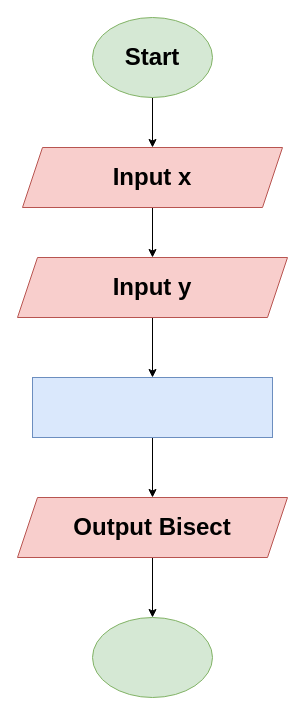
The diagram is 305 pixels wide and 715 high, and some of its shapes have lost their labels. The box of each missing label's shape, as (x1, y1, x2, y2) in pixels:
Bisect = x + y * a2: (32, 376, 272, 438)
Stop: (92, 616, 212, 698)
